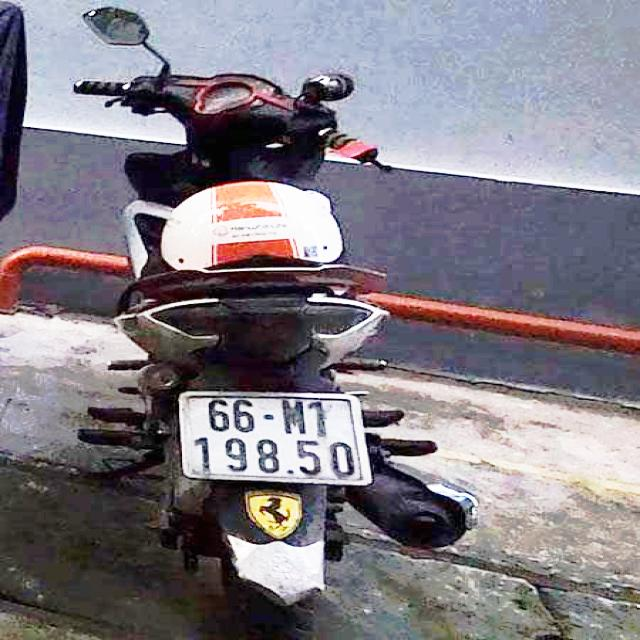license_plate: (186, 393, 367, 485)
